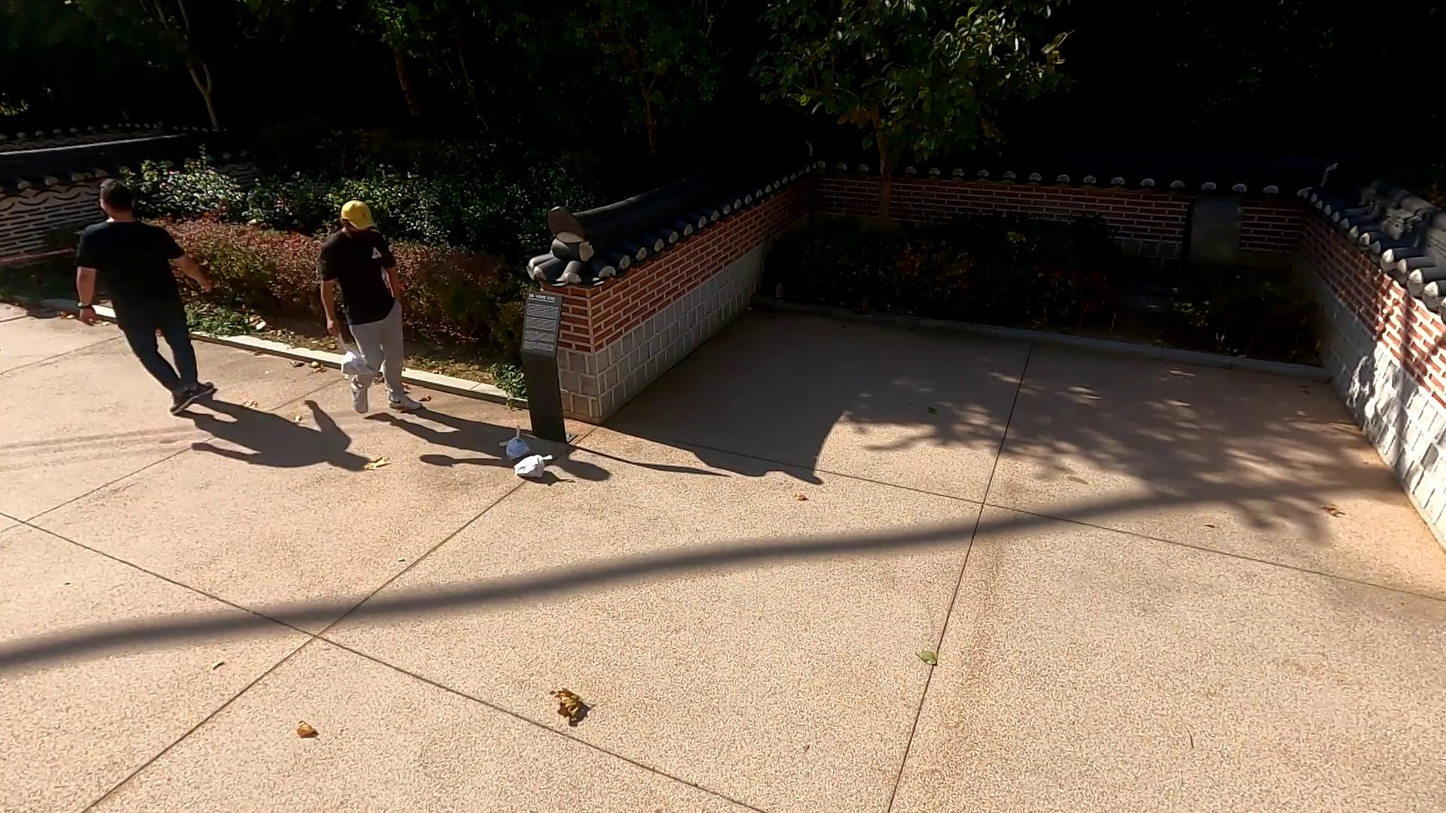person: (75, 175, 228, 417), (319, 200, 427, 417)
trash: (510, 447, 560, 484), (500, 433, 531, 464)
